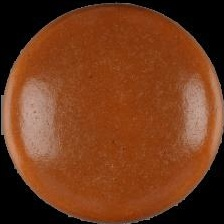24236-027: (0, 0, 224, 224)
